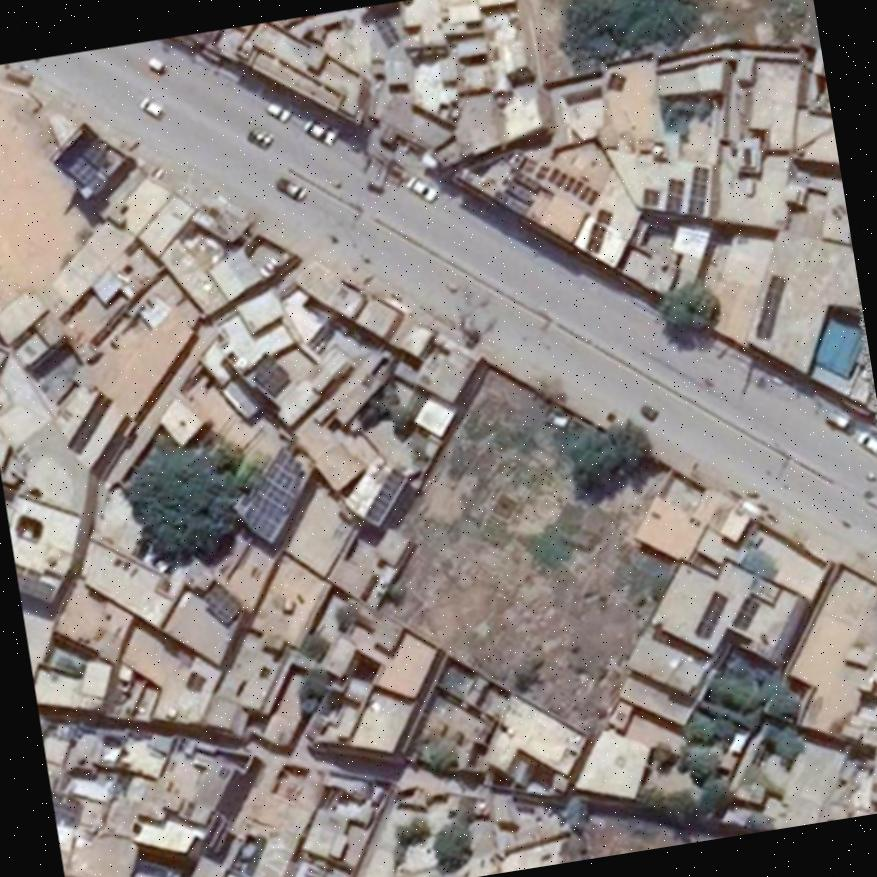Solarpanel: (238, 448, 301, 542), (367, 467, 408, 525), (757, 272, 785, 337), (251, 352, 288, 396), (696, 590, 729, 637), (204, 581, 237, 622), (734, 596, 760, 630), (690, 166, 707, 214), (664, 179, 682, 211)
